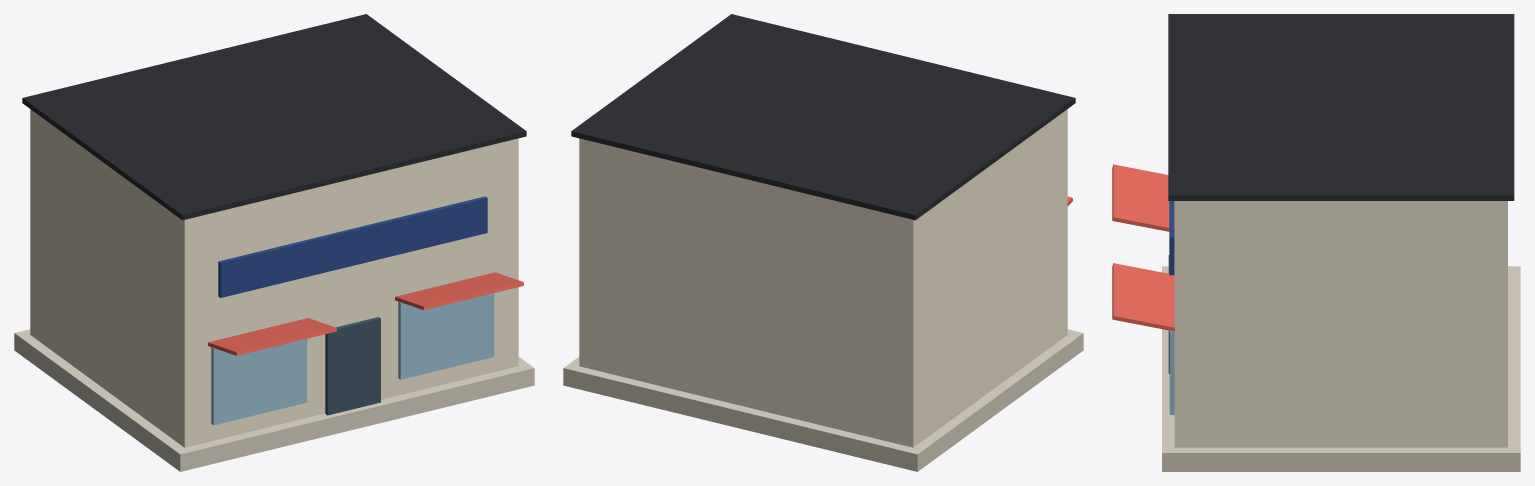
File: building.clothing-store.glb
The picture shows the model from 3 angles, left to right: view 1: azimuth 30°, elevation 25°; view 2: azimuth 150°, elevation 25°; view 3: azimuth 270°, elevation 25°; orthographic projection. The views are drawn at different scales.
Visible parts, largest first — view 1: building.clothing-store; view 2: building.clothing-store; view 3: building.clothing-store.
Boxes of the visible parts, x1,y1,x2,y2 form: building.clothing-store: (14,14,534,471); building.clothing-store: (563,14,1083,471); building.clothing-store: (1112,14,1520,471).
Bounding box in the file's own units: 10.6 × 7.25 × 9.79.
